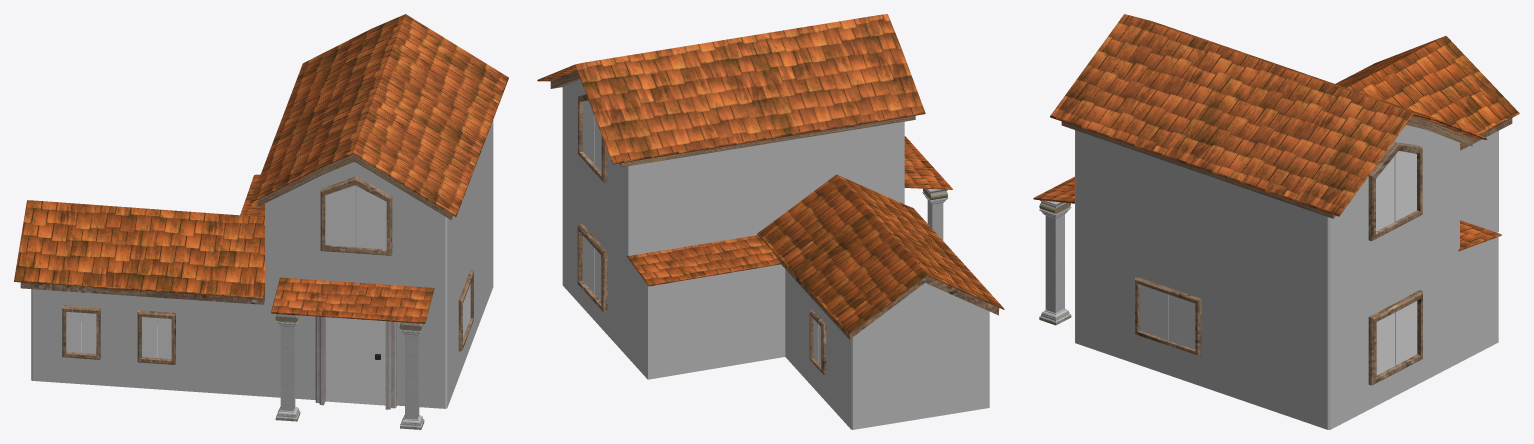
File: Big House.fbx
3 views of the same model, side by side, from view 1: azimuth 30°, elevation 25°; view 2: azimuth 150°, elevation 25°; view 3: azimuth 270°, elevation 25° (orthographic). The views are drawn at different scales.
Visible parts, largest first — view 1: House_1; view 2: House_1; view 3: House_1.
Part boxes in pixels (left/top/right/bottom): House_1: left=14, top=14, right=508, bottom=429; House_1: left=537, top=14, right=1004, bottom=429; House_1: left=1033, top=14, right=1519, bottom=429.
Bounding box in the file's own units: 27.59 × 14.21 × 21.59.
